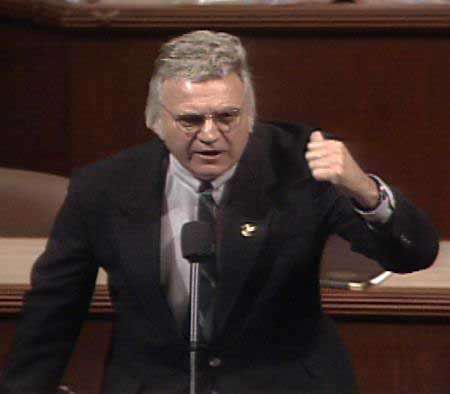Face: (162, 82, 254, 181)
